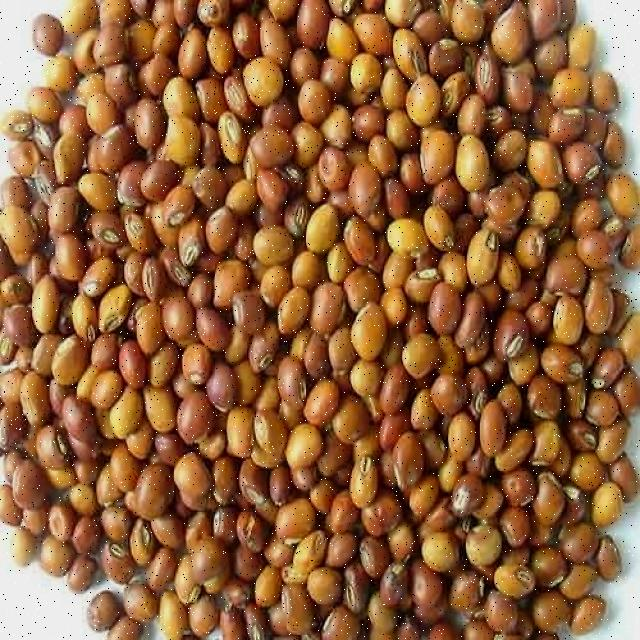NA: (45, 104, 588, 512)
